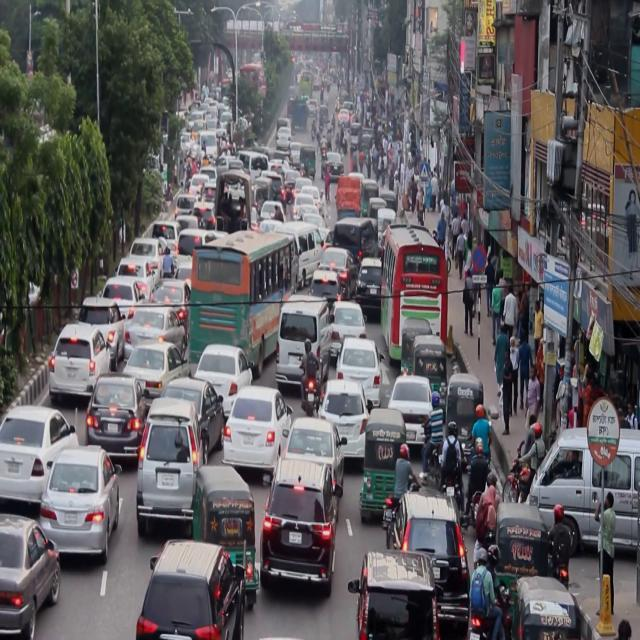black: (262, 458, 337, 599), (400, 491, 469, 640), (140, 539, 241, 640), (359, 557, 434, 640), (87, 376, 143, 458), (162, 381, 222, 456), (312, 249, 354, 302), (358, 258, 382, 317)
silver: (529, 428, 640, 560), (138, 407, 200, 546), (0, 512, 61, 640), (274, 296, 328, 395), (151, 279, 191, 314)
white: (37, 446, 123, 565), (1, 402, 80, 509), (220, 383, 296, 482), (46, 324, 114, 406), (125, 304, 185, 360), (192, 344, 252, 399), (325, 382, 367, 452), (390, 377, 430, 450), (128, 346, 187, 393), (338, 336, 378, 395), (78, 301, 124, 352), (330, 303, 362, 361), (298, 225, 322, 288), (102, 278, 142, 312), (128, 237, 166, 267)
